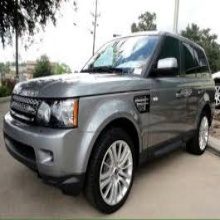no damage: (3, 30, 217, 214)
